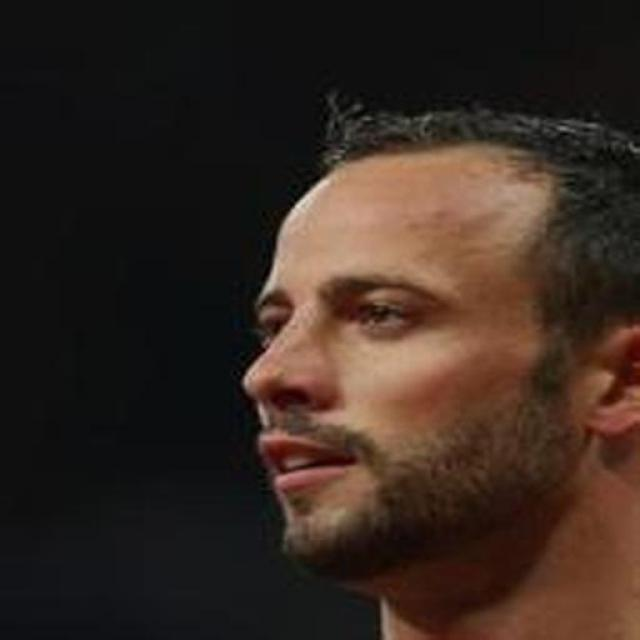bareface: (244, 246, 576, 576)
